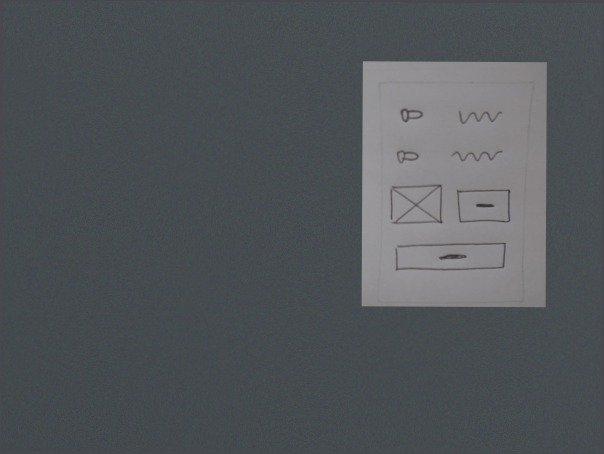button: (392, 242, 509, 278), (454, 187, 515, 228)
image: (388, 183, 446, 229)
switch: (397, 104, 427, 128), (393, 145, 422, 169)
text: (448, 145, 505, 169), (454, 105, 506, 128)
